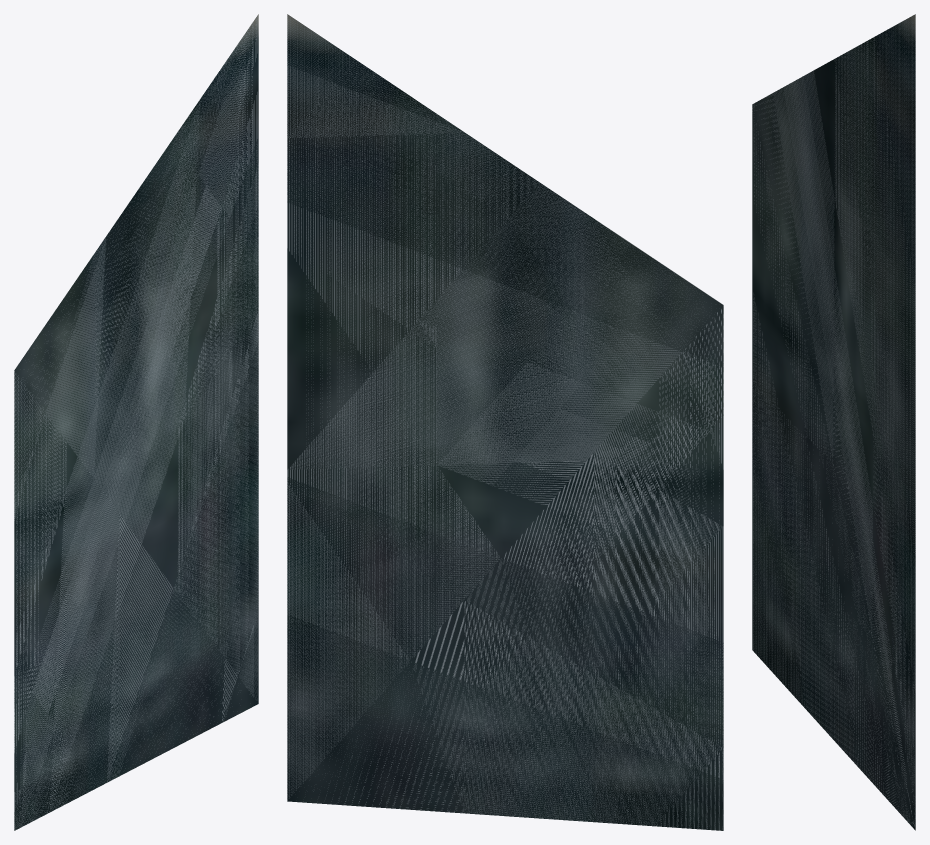
File: 西庸城堡350.dae
3 views of the same model, side by side, from view 1: azimuth 30°, elevation 25°; view 2: azimuth 150°, elevation 25°; view 3: azimuth 270°, elevation 25° (orthographic). The views are drawn at different scales.
Parts seen in each view (by area): view 1: SketchUp; view 2: SketchUp; view 3: SketchUp.
Part boxes in pixels (box(x1,y1,x2,y2)): SketchUp: box(14, 14, 258, 830); SketchUp: box(287, 14, 723, 830); SketchUp: box(752, 14, 915, 830).
Size of the model in its own units: 55.17 by 21.08 by 116.
